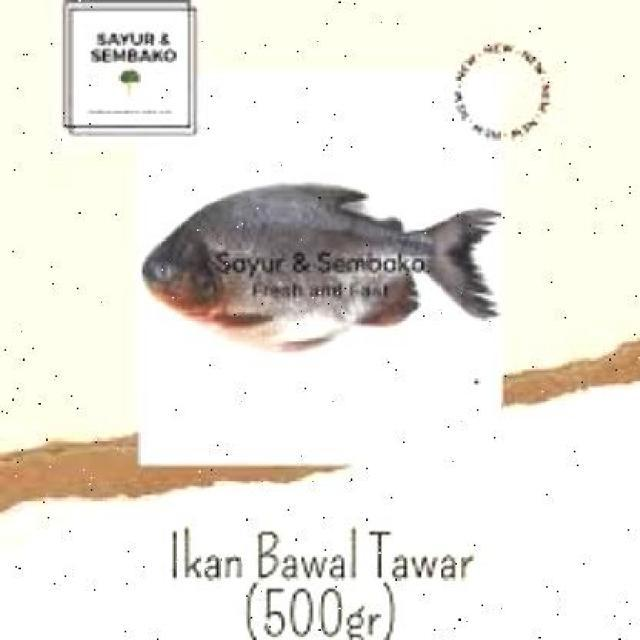ikan-pacu: (140, 185, 494, 348)
